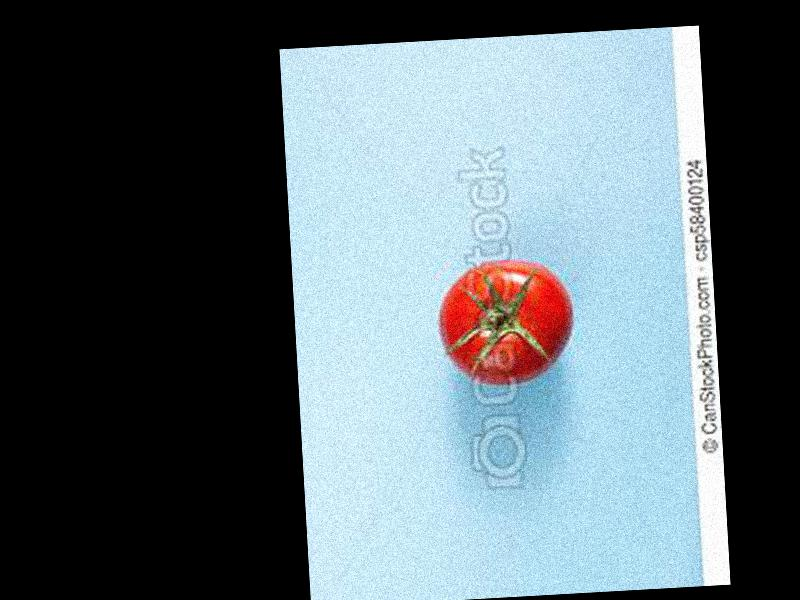Tomato: (436, 258, 578, 385)
